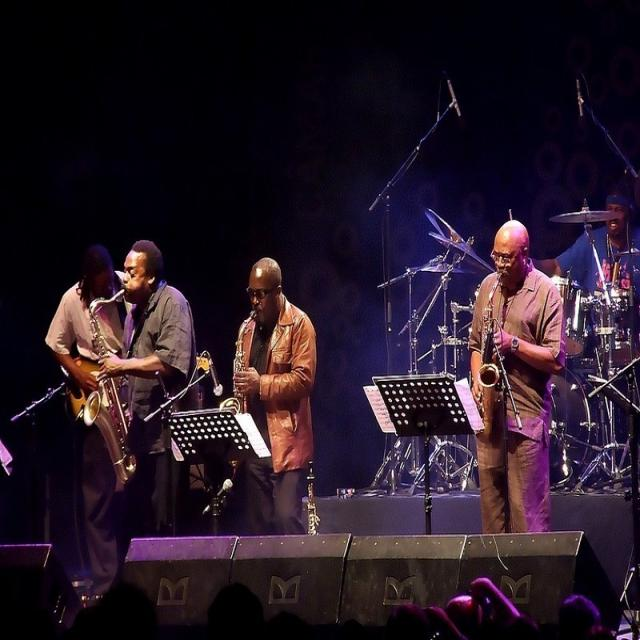drums: (369, 202, 640, 487)
guitar: (68, 354, 209, 424)
saxophone: (82, 284, 142, 483), (218, 308, 260, 465), (474, 275, 508, 442)
